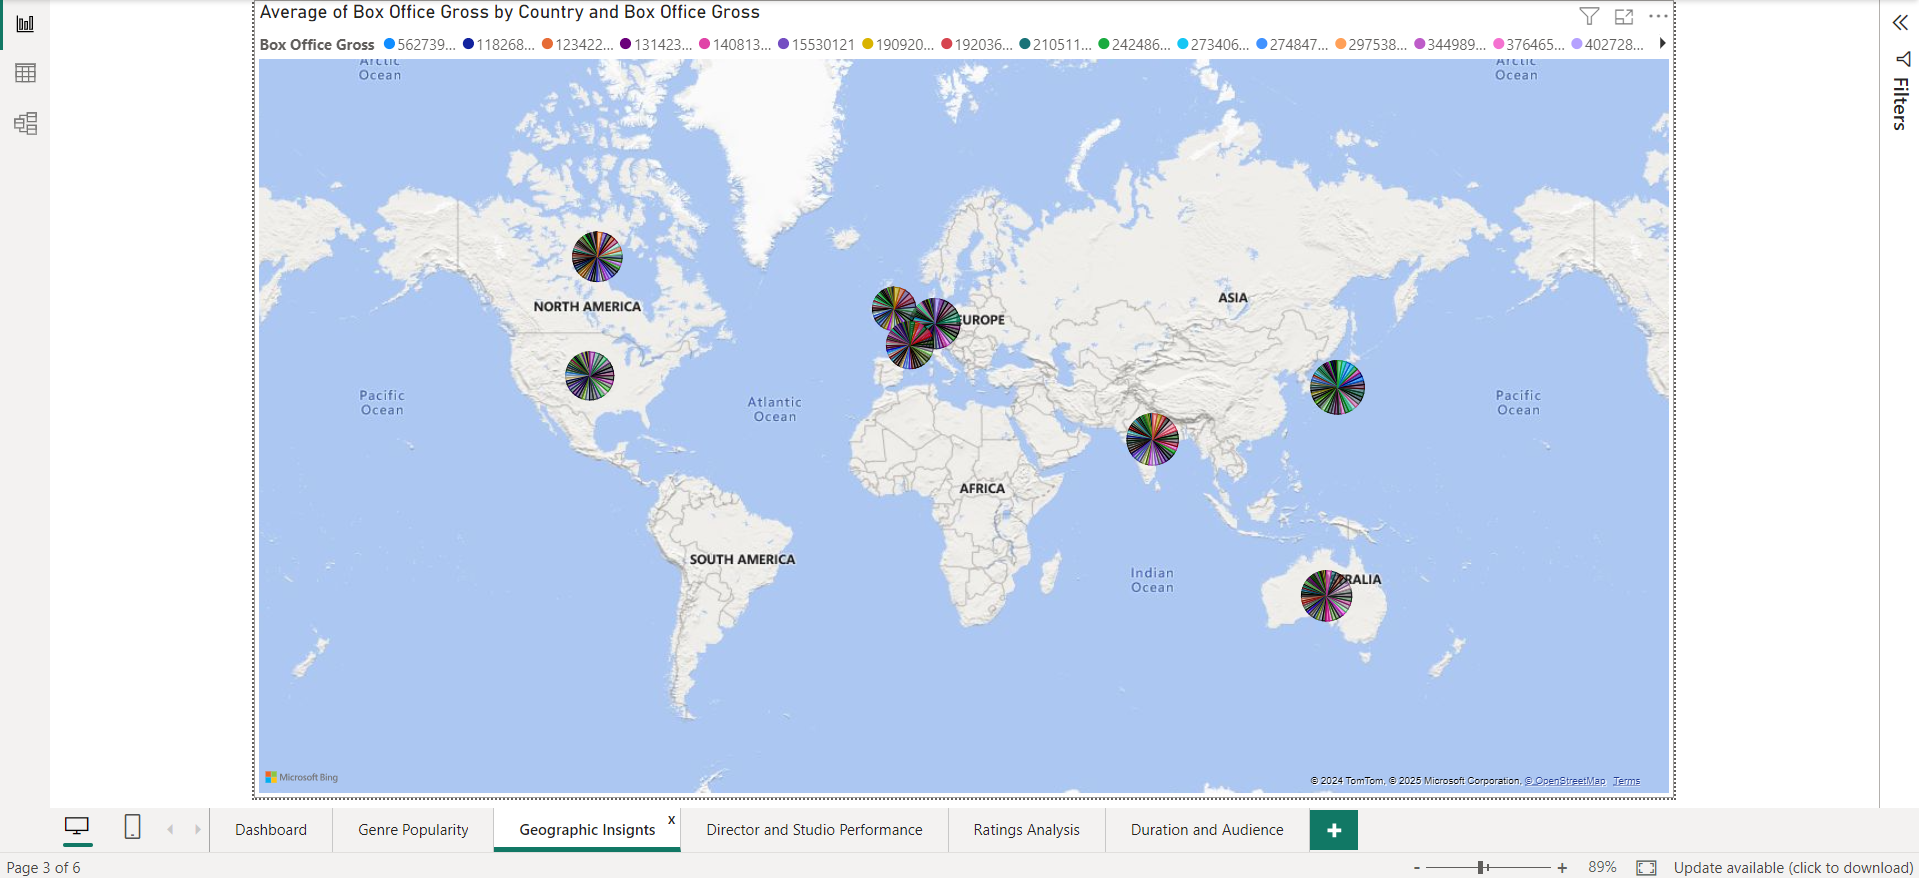

The page's visual inventory and layout, read from the dashboard file:
{"tool":"powerbi","page":{"name":"Geographic Insignts","canvas":[1280,720],"ordinal":2},"visuals":[{"type":"map","fields":{"Category":["global_movie_dataset.Country"],"Series":["global_movie_dataset.Box Office Gross"],"Size":["Avg(global_movie_dataset.Box Office Gross)"]},"box":[0,0,1279.9,720],"z":0}]}

Visuals, with their boxes on the page's 1280x720 design canvas (x1, y1, x2, y2). These are canvas units, not pixel positions in the 1919x878 screenshot, which may show the page scaled, cropped or inside an application window:
map - global_movie_dataset.Country x global_movie_dataset.Box Office Gross: (0, 0, 1280, 720)
